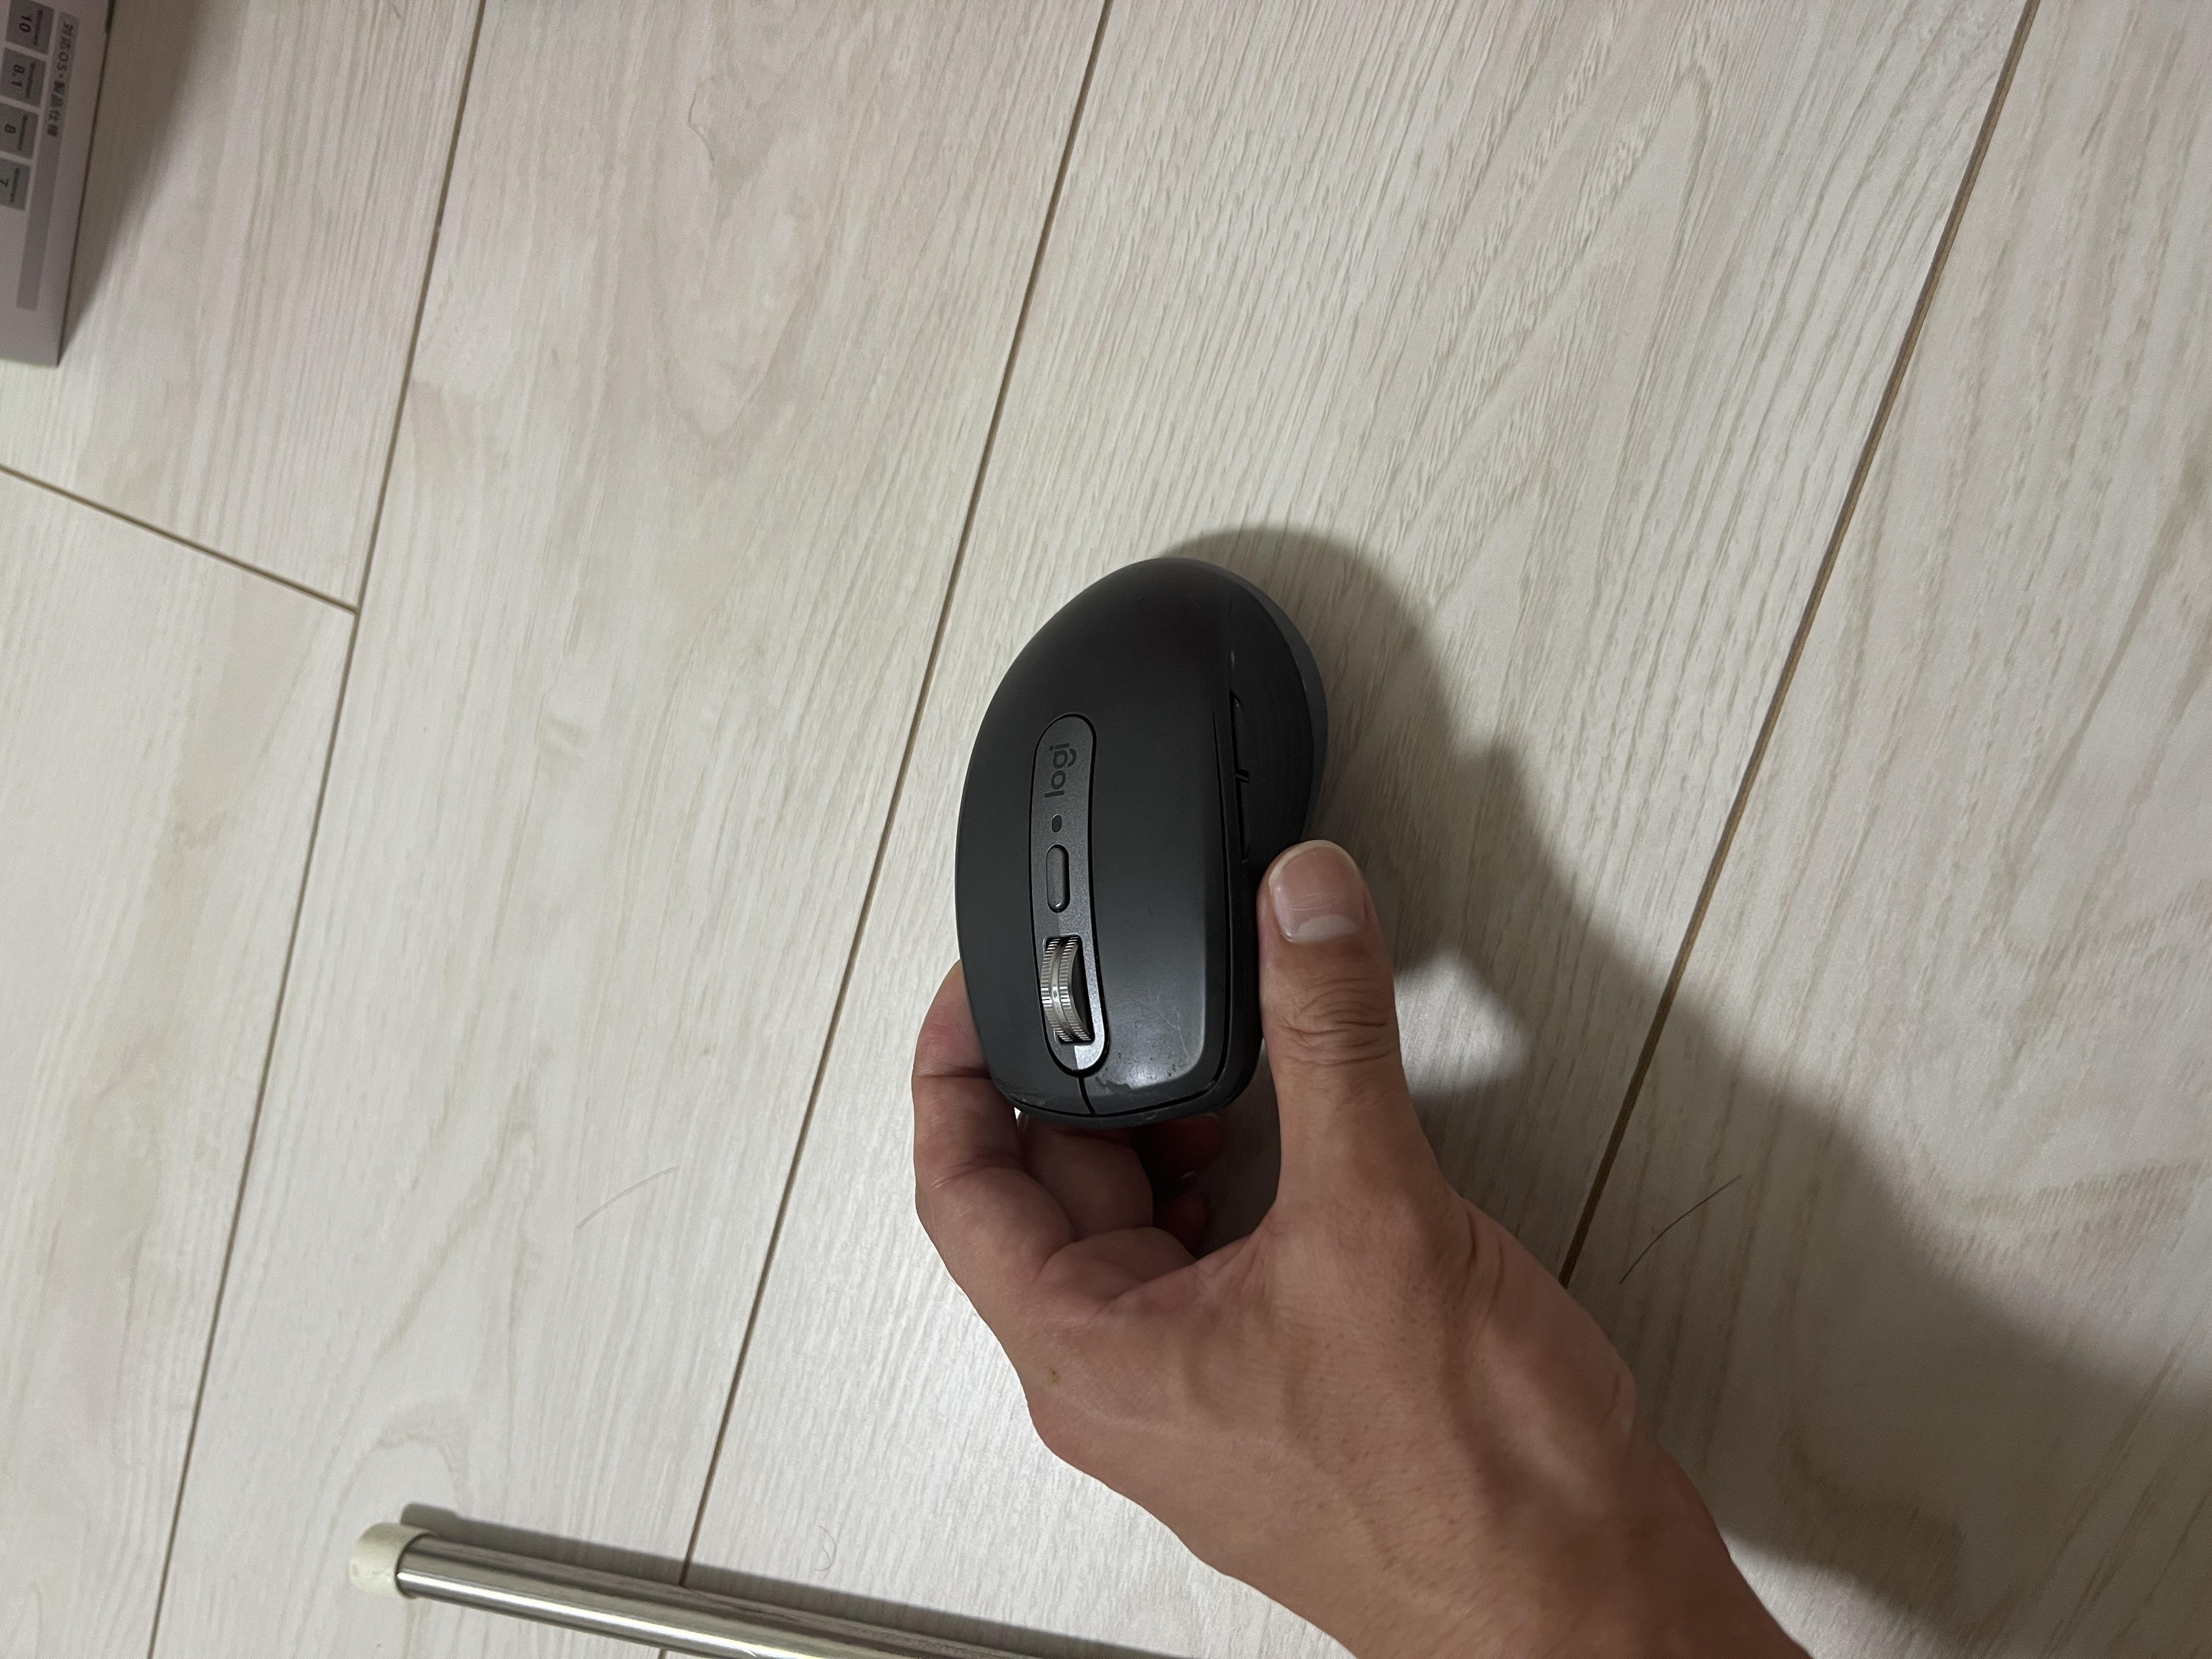mouse: (718, 728, 1507, 978)
